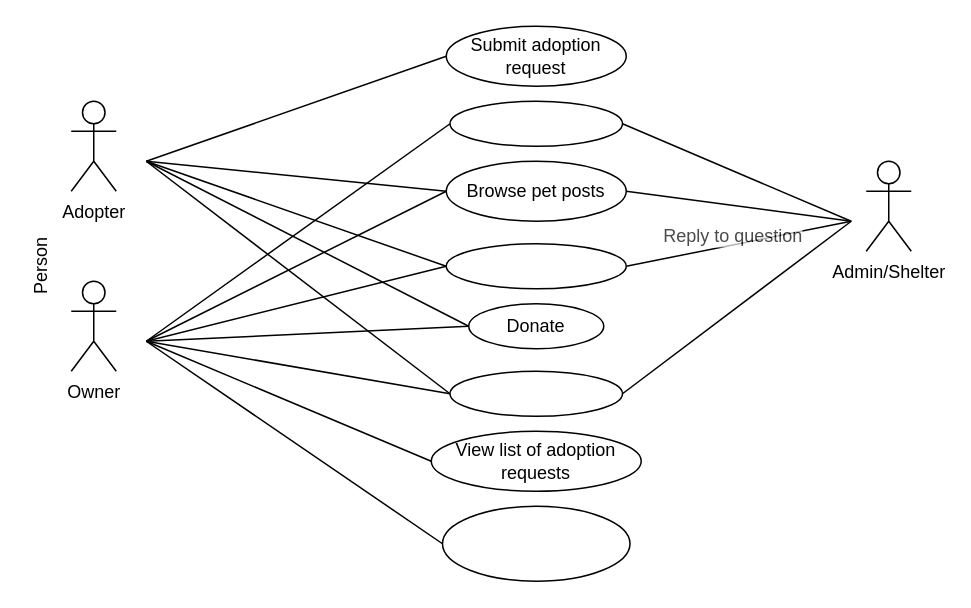
Image size: 971x608. Some labels were removed from this diagram. The shapes that lost their labels are listed below. From the top down, each one's centre as x and y in pixels, then its label:
the point at 535,123: Create pet post
the point at 535,265: Submit question
the point at 535,393: Log in/ Log out
the point at 535,543: Change status of adoption request
